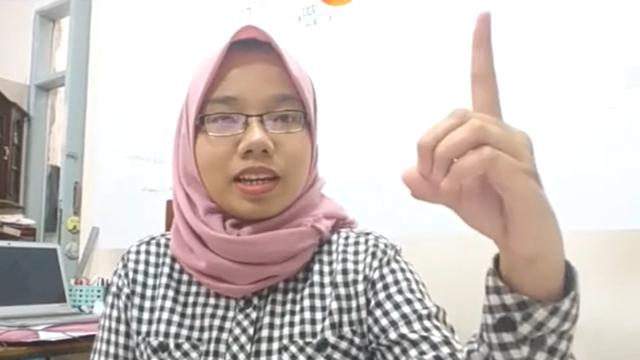D: (402, 7, 572, 266)
